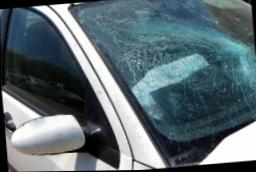Windshield: (72, 0, 256, 167)
